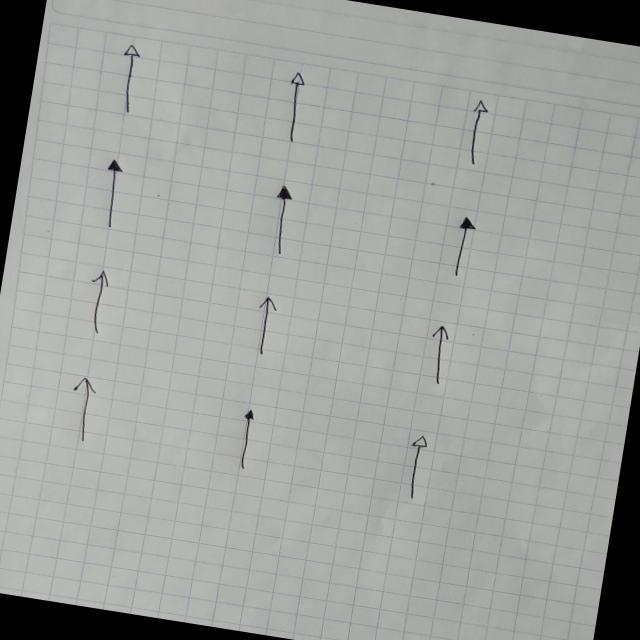arrow_line_up: (285, 57, 343, 176), (226, 390, 286, 485), (430, 416, 493, 506), (479, 93, 527, 210), (106, 26, 158, 118), (262, 182, 314, 270), (252, 292, 304, 370), (87, 154, 136, 234), (444, 316, 497, 386), (42, 370, 84, 454), (66, 268, 110, 339), (469, 218, 511, 290)
